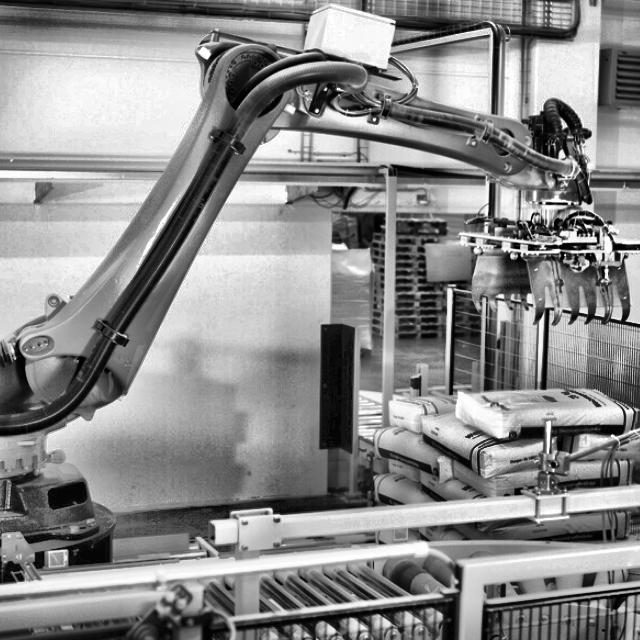robot: (0, 6, 640, 583)
